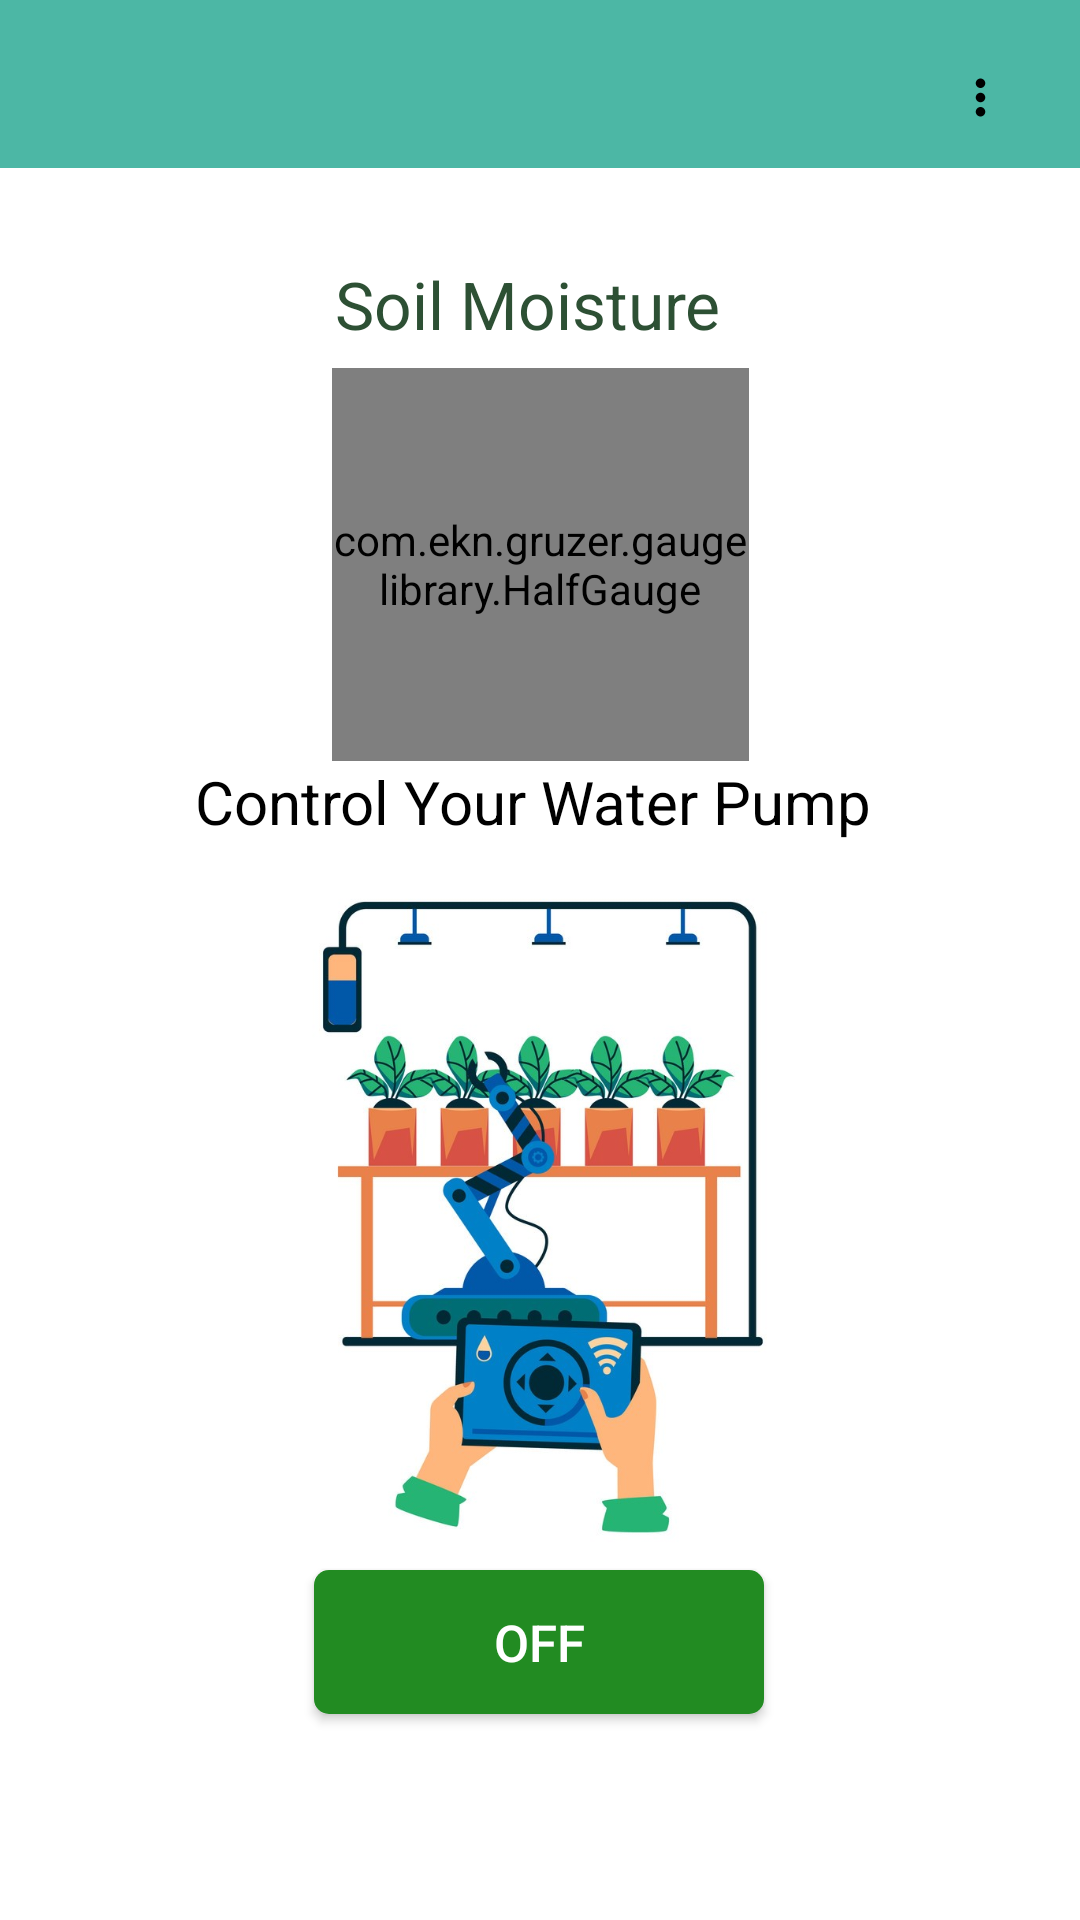

Where icons sit on this 1080px x 1920px app screen, as [x1=x1, y1=y1, x2=x2, y2=y2]:
more: [x1=975, y1=78, x2=986, y2=117]
